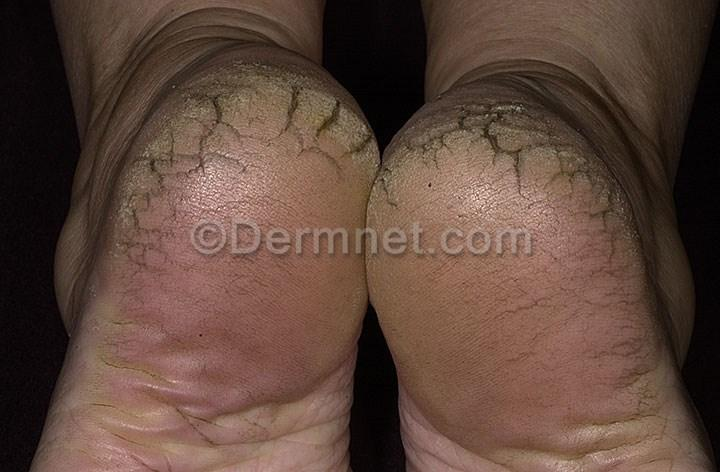Eczema: (547, 129, 646, 259), (110, 158, 190, 287), (220, 53, 331, 144), (461, 89, 566, 181), (147, 88, 253, 178), (304, 86, 385, 184), (402, 113, 484, 175), (359, 158, 424, 221)
